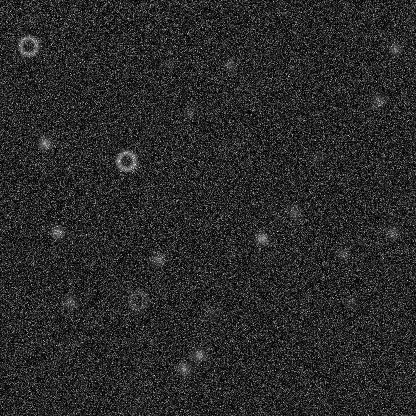Ring: (16, 33, 40, 57), (114, 148, 138, 172), (126, 288, 150, 312)
Spot: (335, 245, 351, 261), (181, 105, 197, 121), (343, 294, 359, 310), (383, 223, 399, 239), (370, 92, 386, 108), (221, 56, 237, 72), (49, 224, 65, 240), (149, 250, 165, 266), (308, 149, 324, 165), (253, 230, 269, 246), (387, 40, 403, 56), (286, 204, 302, 220), (203, 304, 219, 320), (176, 360, 192, 376), (62, 294, 78, 310), (36, 135, 52, 151), (161, 56, 177, 72), (353, 354, 369, 370), (190, 347, 206, 363), (270, 209, 286, 225)
